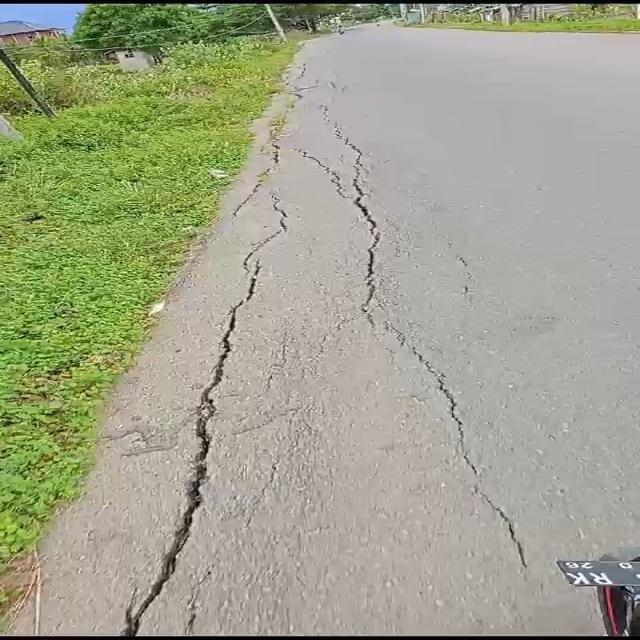Memanjang: (339, 128, 542, 573), (108, 196, 304, 637)
